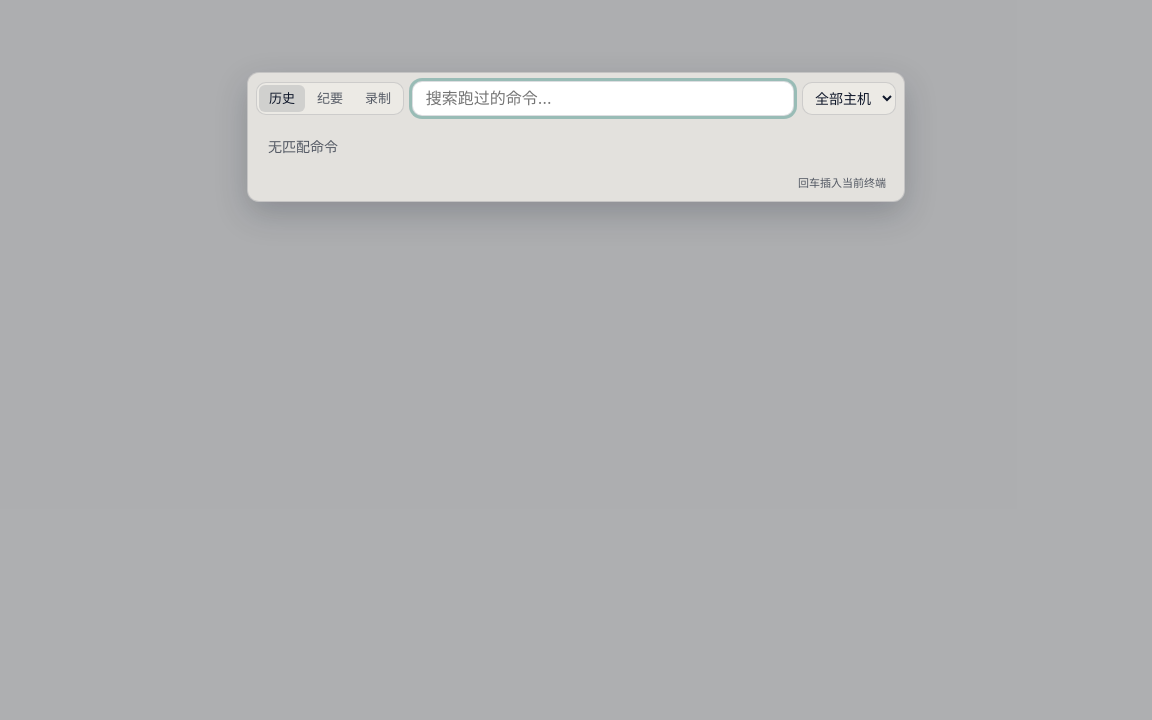
Test: HistorySearch 录制页签（Phase 3 Task 5，B3） › 切「录制」页签 → recording_search 空查询取最近；命中行渲染（snippet/主机/时长）
Step 1. Click the tab with test id "recording-tab" → (378, 98), box [355,85,401,112]
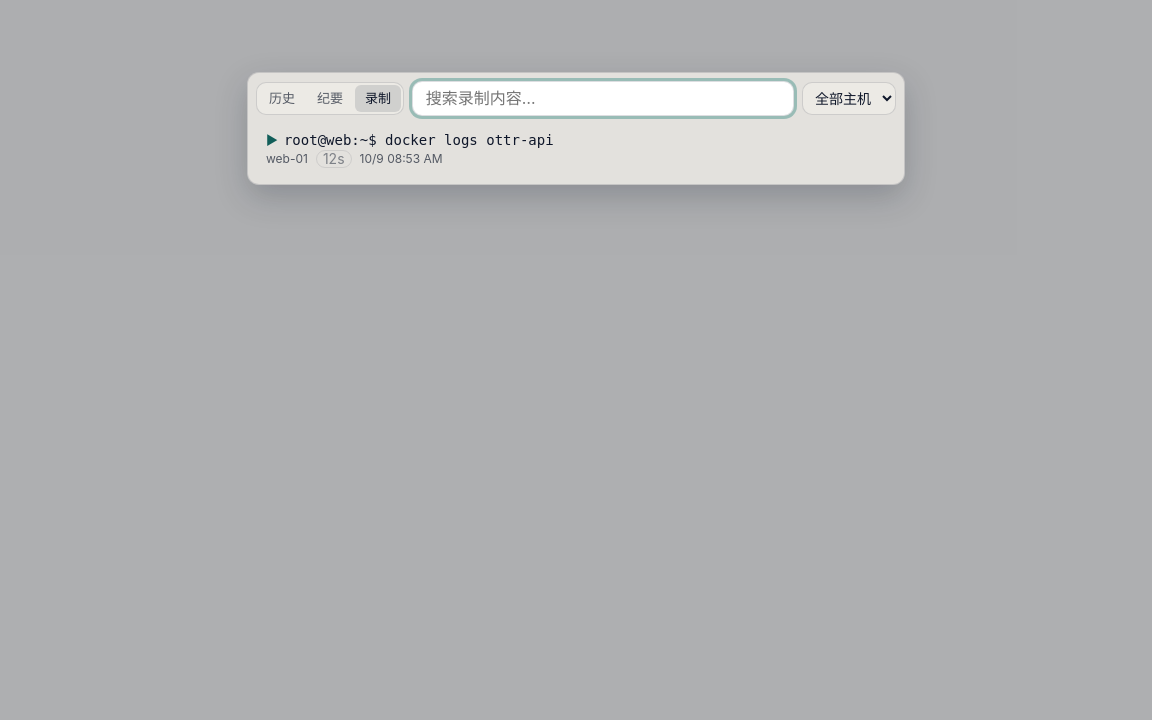
Expected: the button with test id "recording-item" shows "docker logs ottr-api", [256,124,896,176]
Expected: the text with class "history-host" reads "web-01", [266,151,308,166]
Expected: the text with test id "recording-duration" reads "12s", [323,150,344,167]
